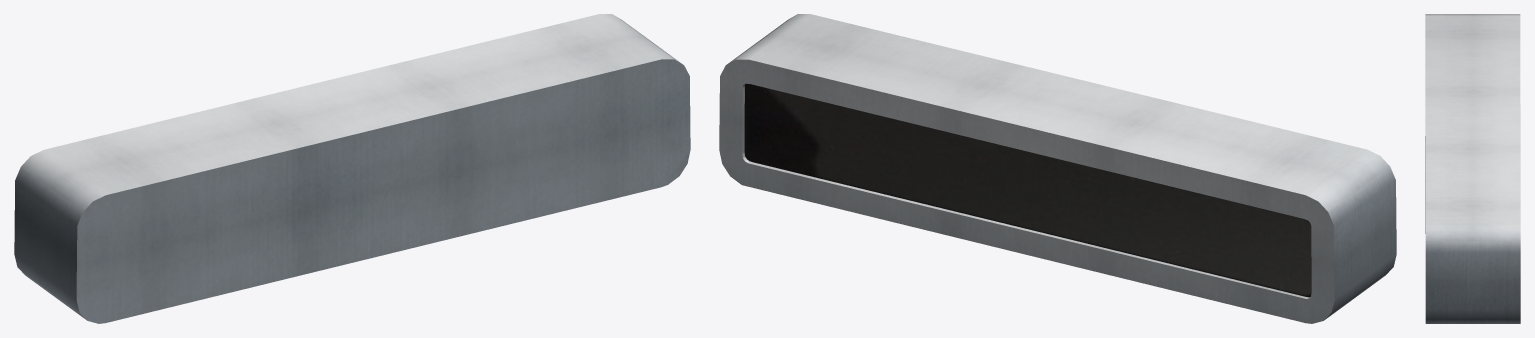
The model's file is 3DGJ_chksh_stainless_chaji_xp_wmr_DT_002VR.FBX.
3 renders of one model, left to right at view 1: azimuth 30°, elevation 25°; view 2: azimuth 150°, elevation 25°; view 3: azimuth 270°, elevation 25°, orthographic. The views are drawn at different scales.
Parts seen in each view (by area): view 1: 3DGJ_chksh_stainless_chaji_xp_wmr_DT_002VR; view 2: 3DGJ_chksh_stainless_chaji_xp_wmr_DT_002VR; view 3: 3DGJ_chksh_stainless_chaji_xp_wmr_DT_002VR.
Boxes of the visible parts, x1,y1,x2,y2 form: 3DGJ_chksh_stainless_chaji_xp_wmr_DT_002VR: (14, 14, 690, 323); 3DGJ_chksh_stainless_chaji_xp_wmr_DT_002VR: (719, 14, 1396, 323); 3DGJ_chksh_stainless_chaji_xp_wmr_DT_002VR: (1425, 14, 1520, 323).
Bounding box in the file's own units: 4.01 × 0.798 × 0.7058.
